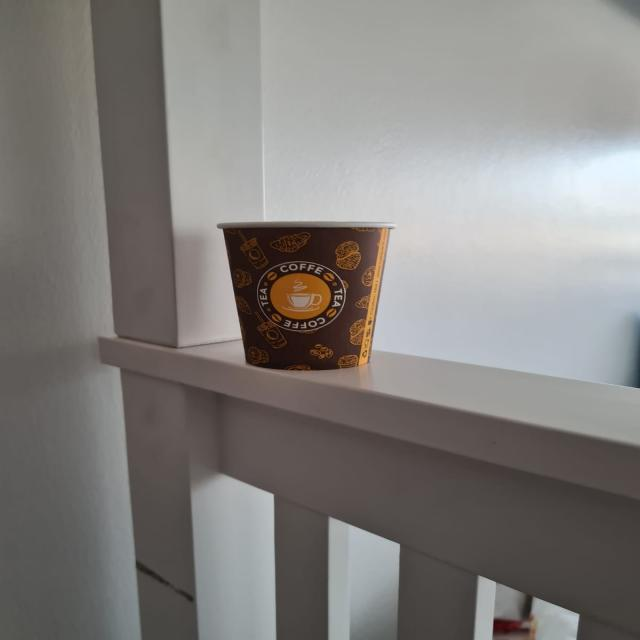cups: (214, 219, 405, 375)
